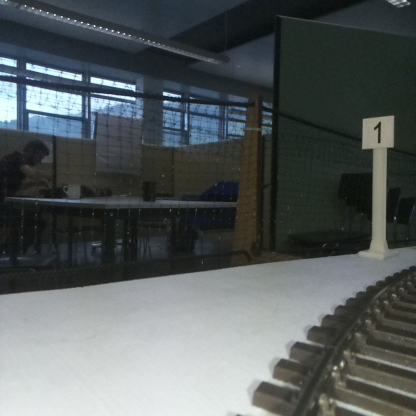white-info-1: (362, 115, 393, 256)
